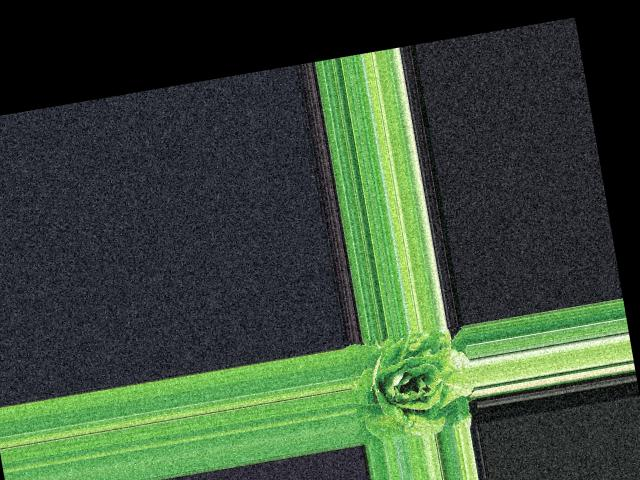lettuce: (345, 324, 474, 442)
